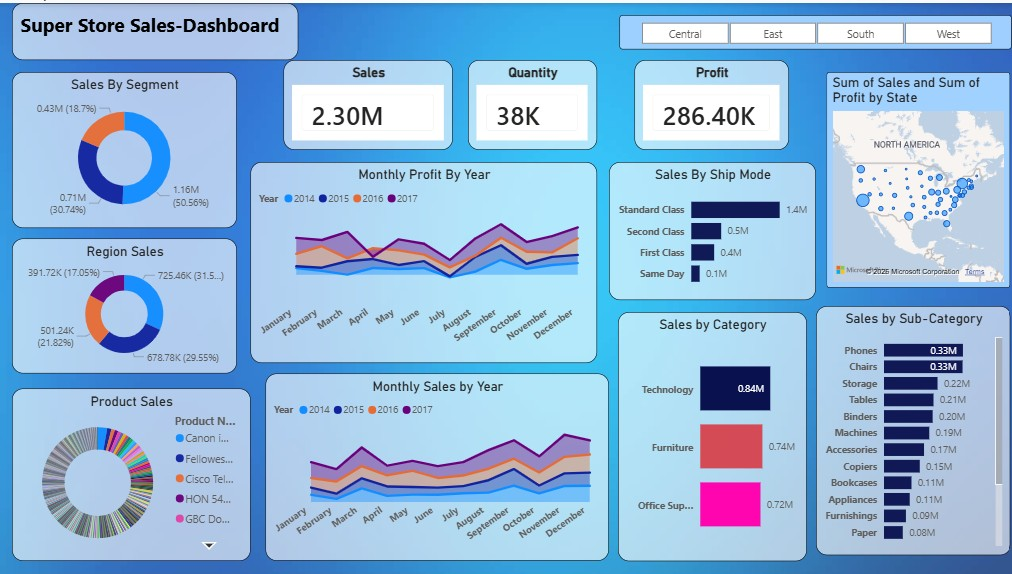

The dashboard page shown, as its layout file describes it:
{"tool":"powerbi","page":{"name":"Page 1","canvas":[1280,720],"ordinal":0},"visuals":[{"type":"clusteredBarChart","title":"Sales by Category","fields":{"Category":["Sample - Superstore.Category"],"Y":["Sum(Sample - Superstore.Sales)"]},"box":[778.6,389.3,238.1,313.7],"z":0},{"type":"clusteredBarChart","title":"Sales by Sub-Category","fields":{"Category":["Sample - Superstore.Sub-Category","Sample - Superstore.Category"],"Y":["Sum(Sample - Superstore.Sales)"]},"box":[1028,381.7,245.7,313.7],"z":1000},{"type":"clusteredBarChart","title":"Sales By Ship Mode","fields":{"Category":["Sample - Superstore.Ship Mode"],"Y":["Sum(Sample - Superstore.Sales)"]},"box":[767.2,200.3,260.8,173.9],"z":2000},{"type":"stackedAreaChart","title":"Monthly Sales by Year","fields":{"Y":["Sum(Sample - Superstore.Sales)"],"Category":["Sample - Superstore.Order Date.Variation.Date Hierarchy.Month"],"Series":["Sample - Superstore.Order Date.Variation.Date Hierarchy.Year"]},"box":[334.5,466.8,432.8,236.2],"z":3000},{"type":"stackedAreaChart","title":"Monthly Profit By Year","fields":{"Category":["Sample - Superstore.Order Date.Variation.Date Hierarchy.Month"],"Series":["Sample - Superstore.Order Date.Variation.Date Hierarchy.Year"],"Y":["Sum(Sample - Superstore.Profit)"]},"box":[315.6,200.3,436.5,253.2],"z":4000},{"type":"map","fields":{"Category":["Sample - Superstore.State"],"Size":["Sum(Sample - Superstore.Sales)"]},"box":[1041.3,86.9,232.4,272.1],"z":5000},{"type":"donutChart","title":"Sales By Segment","fields":{"Category":["Sample - Superstore.Segment"],"Y":["Sum(Sample - Superstore.Sales)"]},"box":[15.1,86.9,283.5,196.5],"z":6000},{"type":"donutChart","title":"Region Sales","fields":{"Category":["Sample - Superstore.Region"],"Y":["Sum(Sample - Superstore.Sales)"]},"box":[15.1,296.7,283.5,170.1],"z":7000},{"type":"donutChart","title":"Product Sales","fields":{"Category":["Sample - Superstore.Product Name"],"Y":["Sum(Sample - Superstore.Sales)"]},"box":[15.1,485.7,300.5,217.3],"z":8000},{"type":"slicer","fields":{"Values":["Sample - Superstore.Region"]},"box":[780.5,15.1,495.1,43.5],"z":9000},{"type":"textbox","box":[15.1,0,360.9,71.8],"z":10000},{"type":"cardVisual","title":"Sales","fields":{"Data":["Sum(Sample - Superstore.Sales)"]},"box":[357.2,71.8,213.5,113.4],"z":11000},{"type":"cardVisual","title":"Profit","fields":{"Data":["Sum(Sample - Superstore.Profit)"]},"box":[799.4,71.8,194.6,113.4],"z":12000},{"type":"cardVisual","title":"Quantity","fields":{"Data":["Sum(Sample - Superstore.Quantity)"]},"box":[589.6,71.8,162.5,113.4],"z":13000}]}

Visuals, with their boxes in screenshot pixels (x1, y1, x2, y2), scaled from the page's 1280x720 canvas onto the 1012x574 screenshot:
"Sales by Category" clusteredBarChart: region(616, 310, 804, 560)
"Sales by Sub-Category" clusteredBarChart: region(813, 304, 1007, 554)
"Sales By Ship Mode" clusteredBarChart: region(607, 160, 813, 298)
"Monthly Sales by Year" stackedAreaChart: region(264, 372, 607, 560)
"Monthly Profit By Year" stackedAreaChart: region(250, 160, 595, 362)
map - Sample - Superstore.State x Sum(Sample - Superstore.Sales): region(823, 69, 1007, 286)
"Sales By Segment" donutChart: region(12, 69, 236, 226)
"Region Sales" donutChart: region(12, 237, 236, 372)
"Product Sales" donutChart: region(12, 387, 250, 560)
slicer - Sample - Superstore.Region: region(617, 12, 1009, 47)
textbox: region(12, 0, 297, 57)
"Sales" cardVisual: region(282, 57, 451, 148)
"Profit" cardVisual: region(632, 57, 786, 148)
"Quantity" cardVisual: region(466, 57, 595, 148)
